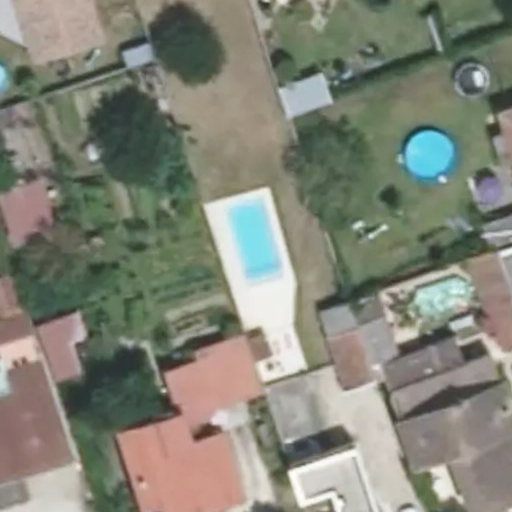pool: (223, 209, 288, 274)
